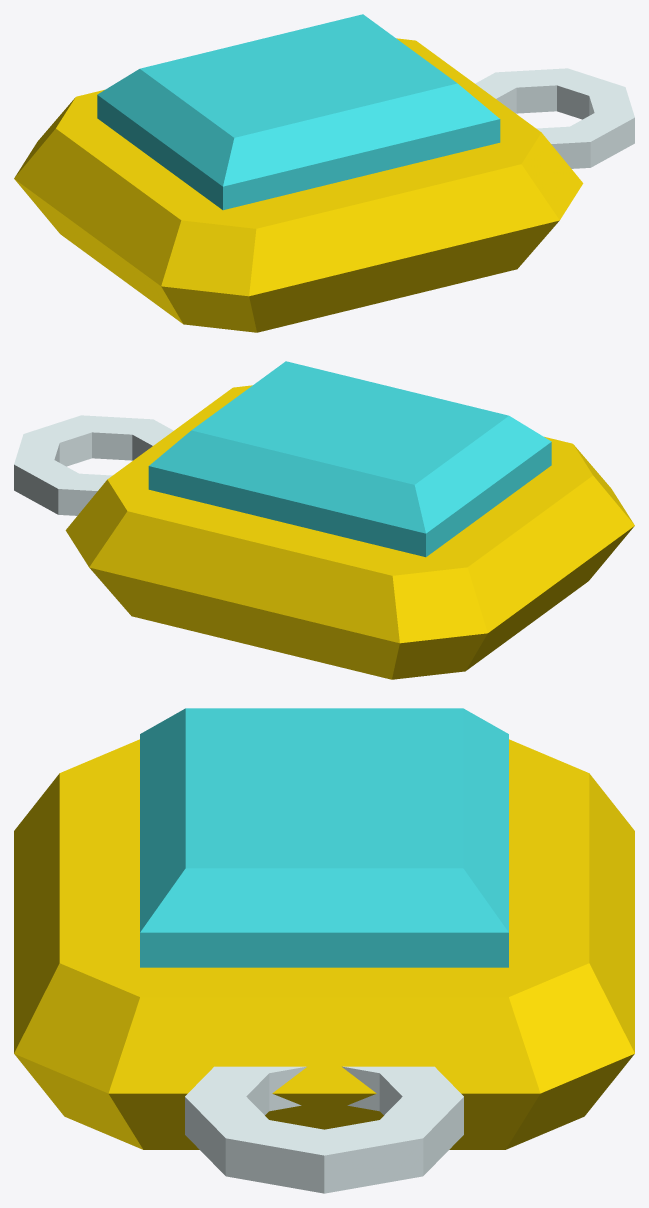
Rendered from necklace_origin.fbx.
3 views of the same model, one above another, from view 1: azimuth 30°, elevation 25°; view 2: azimuth 150°, elevation 25°; view 3: azimuth 270°, elevation 25° (orthographic). The views are drawn at different scales.
Visible parts, largest first — view 1: Necklace_Gold, Necklace_Diamond, Necklace_Silver; view 2: Necklace_Gold, Necklace_Diamond, Necklace_Silver; view 3: Necklace_Gold, Necklace_Diamond, Necklace_Silver.
Part boxes in pixels (left/top/right/bottom): Necklace_Gold: left=14, top=38, right=583, bottom=332; Necklace_Diamond: left=97, top=14, right=500, bottom=210; Necklace_Silver: left=475, top=68, right=634, bottom=168; Necklace_Gold: left=65, top=385, right=634, bottom=679; Necklace_Diamond: left=148, top=361, right=551, bottom=557; Necklace_Silver: left=14, top=415, right=173, bottom=515; Necklace_Gold: left=14, top=739, right=634, bottom=1149; Necklace_Diamond: left=140, top=708, right=508, bottom=967; Necklace_Silver: left=185, top=1066, right=463, bottom=1193.
Bounding box in the file's own units: 0.0464 × 0.0132 × 0.0316.
